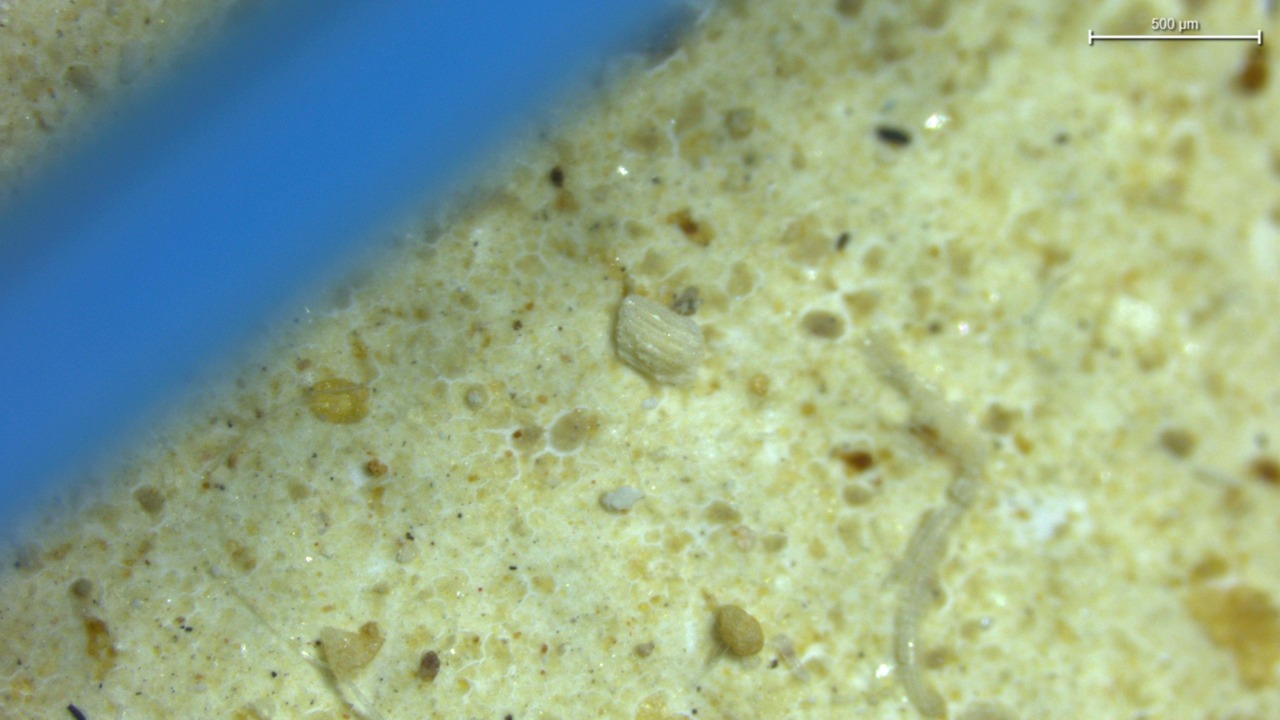microplastic_fragment: (614, 295, 704, 385), (319, 622, 385, 675), (309, 379, 369, 424), (715, 605, 763, 656), (600, 485, 643, 513)
